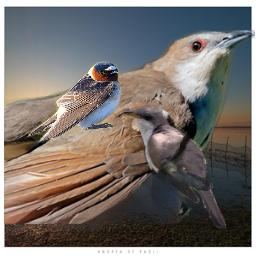Cuckoo: (4, 30, 255, 224), (119, 103, 226, 231)
Swallow: (28, 61, 122, 144)
